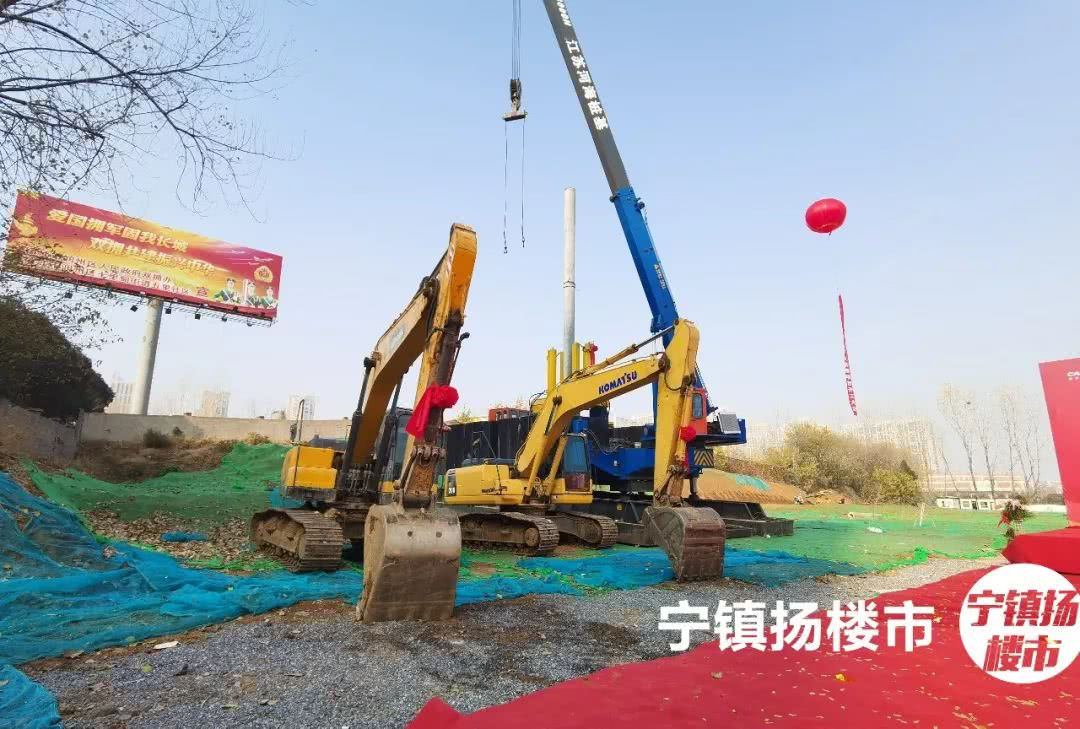excavator: (234, 210, 502, 663), (452, 312, 735, 589)
